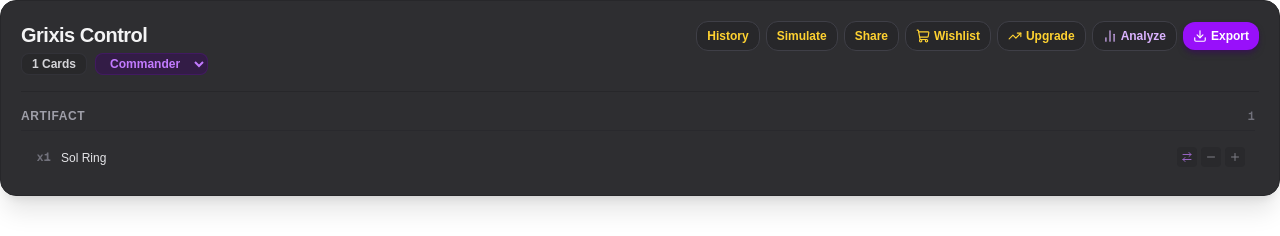
it: DeckWorkspace Component › Deck Name Editing › clicking the name switches to edit mode with an input pre-filled with current name
Click the heading "Grixis Control" at (84,35), box [21,24,147,46]
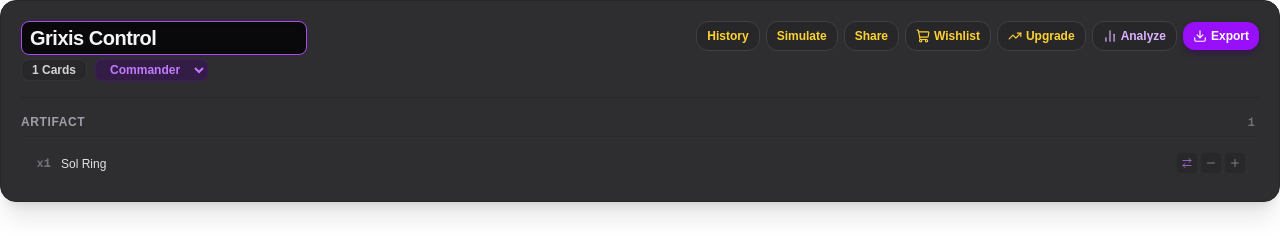
Now the field holds "Grixis Control", box [21,21,307,55]
